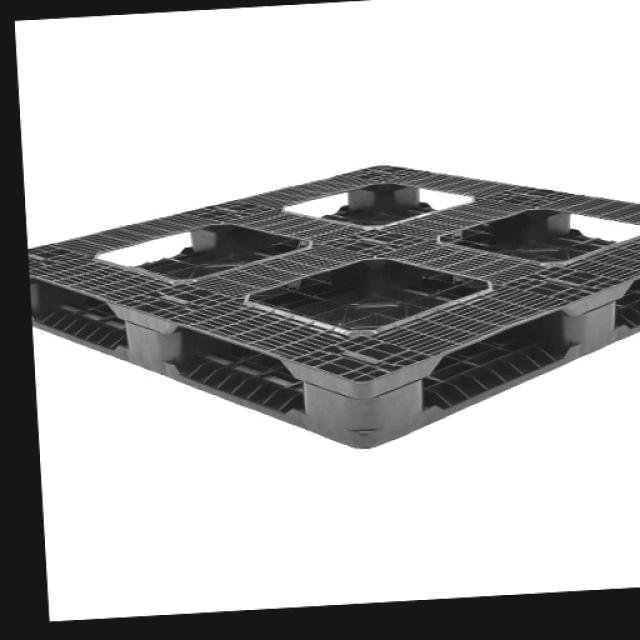non-igps: (24, 161, 640, 452)
